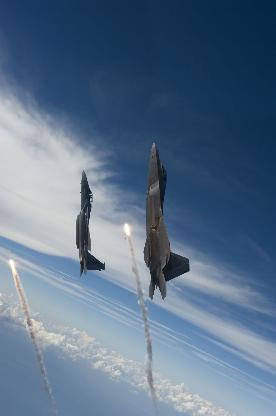F117: (75, 170, 104, 276)
F18: (141, 141, 188, 299)
